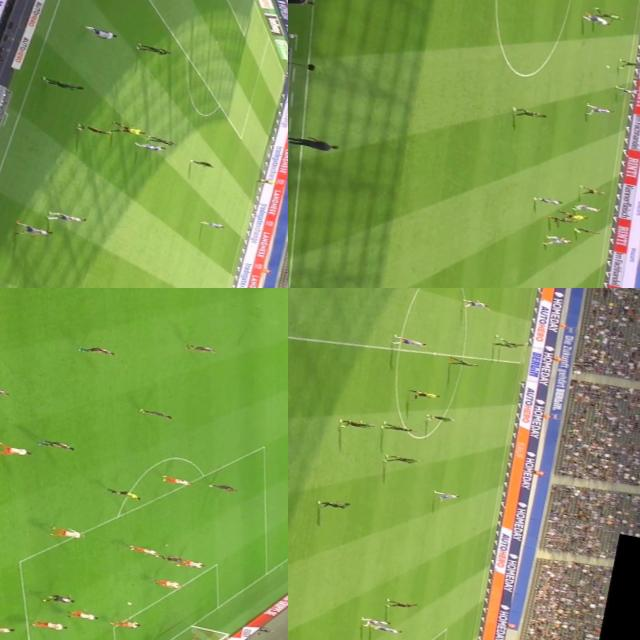ball: (122, 598, 138, 610), (492, 334, 502, 340), (602, 64, 612, 69)
player: (10, 220, 56, 242), (39, 209, 90, 228), (39, 75, 86, 94), (132, 39, 172, 60), (70, 122, 117, 138), (337, 416, 377, 434), (391, 334, 432, 351), (40, 590, 76, 608), (49, 524, 85, 542), (82, 26, 121, 42), (31, 618, 70, 634), (582, 102, 616, 120), (384, 452, 422, 468), (0, 442, 31, 461), (379, 421, 416, 436), (510, 106, 544, 122), (145, 134, 180, 149), (40, 438, 76, 452), (186, 155, 217, 171), (174, 556, 205, 572), (450, 356, 481, 372), (82, 342, 115, 357), (384, 599, 418, 613), (161, 473, 192, 488), (152, 576, 182, 591), (546, 214, 578, 228), (571, 225, 603, 239), (318, 498, 350, 512), (425, 412, 453, 428), (367, 624, 403, 636), (110, 617, 140, 631), (127, 544, 162, 556), (138, 408, 172, 420), (577, 185, 606, 199), (187, 342, 216, 356), (160, 554, 188, 568), (198, 218, 228, 231), (594, 10, 626, 22), (69, 610, 98, 623), (542, 235, 570, 248), (534, 195, 564, 207), (358, 616, 388, 628), (462, 299, 489, 312), (434, 490, 461, 502), (136, 140, 162, 152), (580, 14, 610, 24), (209, 482, 236, 493), (499, 339, 526, 350), (614, 86, 640, 97), (615, 59, 640, 70), (576, 204, 604, 213), (492, 341, 517, 351), (0, 622, 15, 638), (151, 636, 183, 640)
